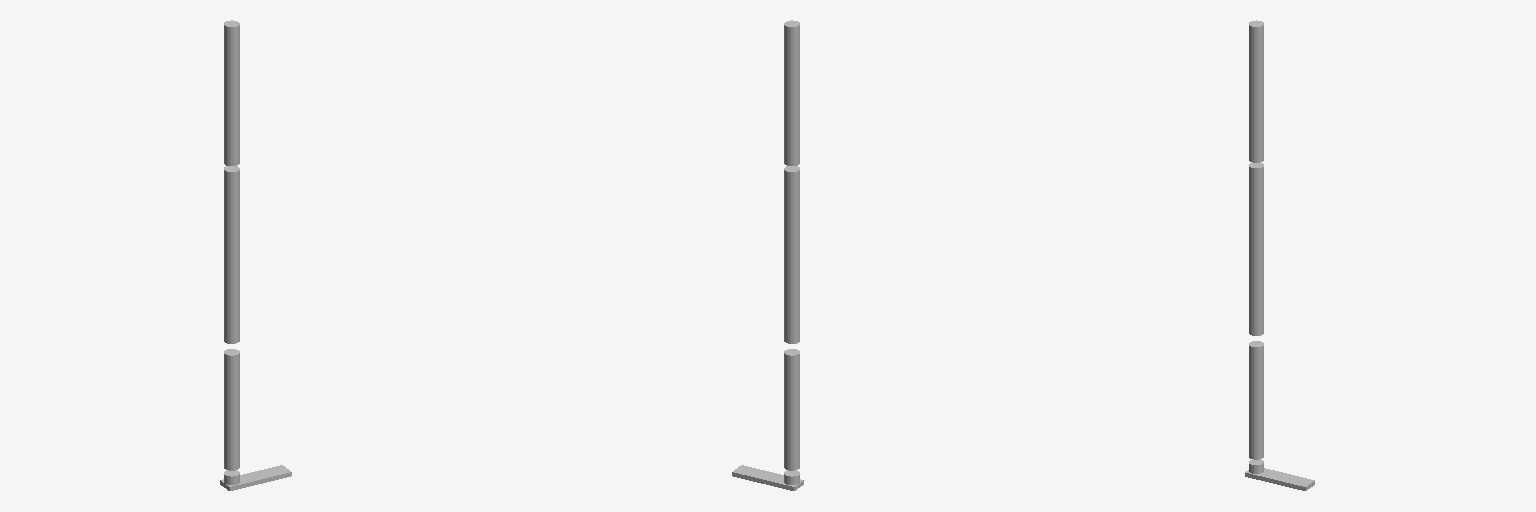
The robot description file, URDF, robot "drc_skeleton":
<?xml version="1.0" encoding="UTF-8"?>
<robot xmlns:xacro="http://www.ros.org/wiki/xacro" name="drc_skeleton">
<!--<robot xmlns="http://drake.mit.edu"-->
 <!--xmlns:xsi="http://www.w3.org/2001/XMLSchema-instance"-->
 <!--xsi:schemaLocation="http://drake.mit.edu ../../../doc/drakeURDF.xsd" name="hatlas">-->
  <material name="LightGrey">
      <color rgba="0.8 0.8 0.8 1.0"/>
  </material>
  <material name="Grey">
      <color rgba="0.6 0.6 0.6 1.0"/>
  </material>
  <material name="DarkGrey">
      <color rgba="0.3 0.3 0.3 1.0"/>
  </material>
  <material name="Black">
      <color rgba="0.1 0.1 0.1 1.0"/>
  </material>
  <parameter name="m__pelvis" value="11.0552"/>
  <parameter name="com_x__pelvis" value="0"/>
  <parameter name="com_z__pelvis" value="-0.086"/>
  <link name="pelvis">
      <inertial>
         <origin xyz="$com_x__pelvis 0 $com_z__pelvis"/>
         <mass value="$m__pelvis"/>
         <inertia ixx="0.1950" ixy="0.0" ixz="0.0" iyy="0.1934" iyz="0.0" izz="0.0886"/>
      </inertial>
      <visual>
         <origin rpy="0 0 0" xyz="0 0 -0.0987"/>
         <geometry>
            <cylinder length="0.1575" radius="0.025"/>
         </geometry>
         <material name="LightGrey"/>
      </visual>
  </link>
  <parameter name="m__torso" value="17.307"/>
  <parameter name="com_x__torso" value="0"/>
  <parameter name="com_z__torso" value="0"/>
  <link name="torso">
      <inertial>
         <origin xyz="$com_x__torso 0 $com_z__torso"/>
         <mass value="$m__torso"/>
         <inertia ixx="0.6908" ixy="0.0" ixz="0.0" iyy="0.3763" iyz="0.0" izz="0.4065"/>
      </inertial>
      <visual>
         <origin rpy="0 0 0" xyz="0.0 0.0 0.23927308"/>
         <geometry>
            <cylinder length="0.47854616" radius="0.025"/>
         </geometry>
         <material name="LightGrey"/>
      </visual>
  </link>
  <parameter name="m__uleg" value="6.7704"/>
  <parameter name="com_x__uleg" value="0"/>
  <parameter name="com_z__uleg" value="0"/>
  <link name="uleg">
      <inertial>
         <origin xyz="$com_x__uleg 0 $com_z__uleg"/>
         <mass value="$m__uleg"/>
         <inertia ixx="0.1341" ixy="0.0" ixz="0.0" iyy="0.1341" iyz="0.0" izz="0.0097"/>
      </inertial>
      <visual>
         <origin rpy="0 0 0" xyz="0.0 0.0 -0.23927308"/>
         <geometry>
            <cylinder length="0.43854616" radius="0.025"/>
         </geometry>
         <material name="LightGrey"/>
      </visual>
  </link>
  <parameter name="m__lleg" value="5.0778"/>
  <parameter name="com_x__lleg" value="0"/>
  <parameter name="com_z__lleg" value="0"/>
  <link name="lleg">
      <inertial>
         <origin xyz="$com_x__lleg 0 $com_z__lleg"/>
         <mass value="$m__lleg"/>
         <inertia ixx="0.0839686075882" ixy="0.0" ixz="0.0" iyy="0.0839686075882" iyz="0.0"
                  izz="0.00728566233332"/>
      </inertial>
      <visual>
         <origin rpy="0 0 0" xyz="0 0 -0.21784564"/>
         <geometry>
            <cylinder length="0.39569128" radius="0.025"/>
         </geometry>
         <material name="LightGrey"/>
      </visual>
  </link>
  <link name="foot">
      <inertial>
         <origin xyz="0 0 -0.0226"/>
         <mass value="4"/>
         <inertia ixx="0.0033" ixy="0.0" ixz="0.0" iyy="0.0078" iyz="0.0" izz="0.0063"/>
      </inertial>
      <visual>
         <origin rpy="0 0 0" xyz="0 0 -0.021695283"/>
         <geometry>
            <cylinder length="0.043390566" radius="0.025"/>
         </geometry>
         <material name="LightGrey"/>
      </visual>
      <visual>
         <origin rpy="0 0 0" xyz="0.087138256 0 -0.0377"/>
         <geometry>
            <box size="0.224276512 0.06 0.015"/>
         </geometry>
         <material name="LightGrey"/>
      </visual>
      <collision>
         <origin rpy="0 0 0" xyz="-0.025 0 -0.0452"/>
         <geometry>
            <sphere radius="0"/>
         </geometry>
      </collision>
      <collision>
         <origin rpy="0 0 0" xyz="0.199276512 0 -0.0452"/>
         <geometry>
            <sphere radius="0"/>
         </geometry>
      </collision>
  </link>
  <joint name="BackPitch" type="revolute">
      <parent link="pelvis"/>
      <child link="torso"/>
      <origin rpy="0 0 0" xyz="0 0 0"/>
      <axis xyz="0 1 0"/>
      <limit effort="180" lower="-0." upper="0.43633231275" velocity="3"/>
      <dynamics damping="1" friction="10"/>
  </joint>
  <transmission name="BackPitch_trans" type="SimpleTransmission">
      <actuator name="BackPitchTorque"/>
      <joint name="BackPitch"/>
      <mechanicalReduction>1</mechanicalReduction>
  </transmission>
  <joint name="RHipPitch" type="revolute">
      <parent link="pelvis"/>
      <child link="uleg"/>
      <origin rpy="0 0 0" xyz="0 0 -0.152491948"/>
      <axis xyz="0 1 0"/>
      <limit effort="260" lower="-1.745329251" upper="0.3490658502" velocity="3"/>
      <dynamics damping="1" friction="10"/>
  </joint>
  <transmission name="RHipPitch_trans" type="SimpleTransmission">
      <actuator name="RHipPitchTorque"/>
      <joint name="RHipPitch"/>
      <mechanicalReduction>1</mechanicalReduction>
  </transmission>
  <joint name="RKneePitch" type="revolute">
      <parent link="uleg"/>
      <child link="lleg"/>
      <origin rpy="0 0 0" xyz="0 0 -0.47854616"/>
      <axis xyz="0 1 0"/>
      <limit effort="220" lower="0.0" upper="2.35619448885" velocity="3"/>
      <dynamics damping="1" friction="10"/>
  </joint>
  <transmission name="RKneePitch_trans" type="SimpleTransmission">
      <actuator name="RKneePitchTorque"/>
      <joint name="RKneePitch"/>
      <mechanicalReduction>1</mechanicalReduction>
  </transmission>
  <joint name="RAnklePitch" type="revolute">
      <parent link="lleg"/>
      <child link="foot"/>
      <origin rpy="0 0 0" xyz="0 0 -0.43569128"/>
      <axis xyz="0 1 0"/>
      <limit effort="220" lower="-0.6981317004" upper="0.6981317004" velocity="3"/>
      <dynamics damping="1" friction="10"/>
  </joint>
  <transmission name="RAnklePitch_trans" type="SimpleTransmission">
      <actuator name="RAnklePitchTorque"/>
      <joint name="RAnklePitch"/>
      <mechanicalReduction>1</mechanicalReduction>
  </transmission>
</robot>

--- What the picture shows (computed from the rendered views, not written in the file) ---
Views: 3 orthographic renders of the robot side by side, from view 1: azimuth 30°, elevation 25°; view 2: azimuth 150°, elevation 25°; view 3: azimuth 330°, elevation 25°.
Robot: drc_skeleton — 5 links, 4 joints (4 revolute); root link pelvis; default pose: every joint at zero.
Visible links, largest first — view 1: torso, uleg, lleg, foot, pelvis; view 2: torso, uleg, lleg, foot, pelvis; view 3: torso, uleg, lleg, foot, pelvis.
Link boxes in pixels (<box>): torso: <box>224,20,239,165</box>; uleg: <box>224,214,239,343</box>; lleg: <box>224,349,239,470</box>; foot: <box>220,465,291,490</box>; pelvis: <box>224,166,239,217</box>; torso: <box>784,20,799,165</box>; uleg: <box>784,216,799,343</box>; lleg: <box>784,349,799,470</box>; foot: <box>732,465,803,490</box>; pelvis: <box>784,166,799,217</box>; torso: <box>1249,20,1263,162</box>; uleg: <box>1249,210,1263,335</box>; lleg: <box>1249,341,1263,459</box>; foot: <box>1245,459,1314,490</box>; pelvis: <box>1249,162,1263,212</box>.
Bounding box of the posed robot: 0.2243 × 0.06 × 1.59 m (x, y, z).
Geometry: primitives only (box / cylinder / sphere), no mesh files.
